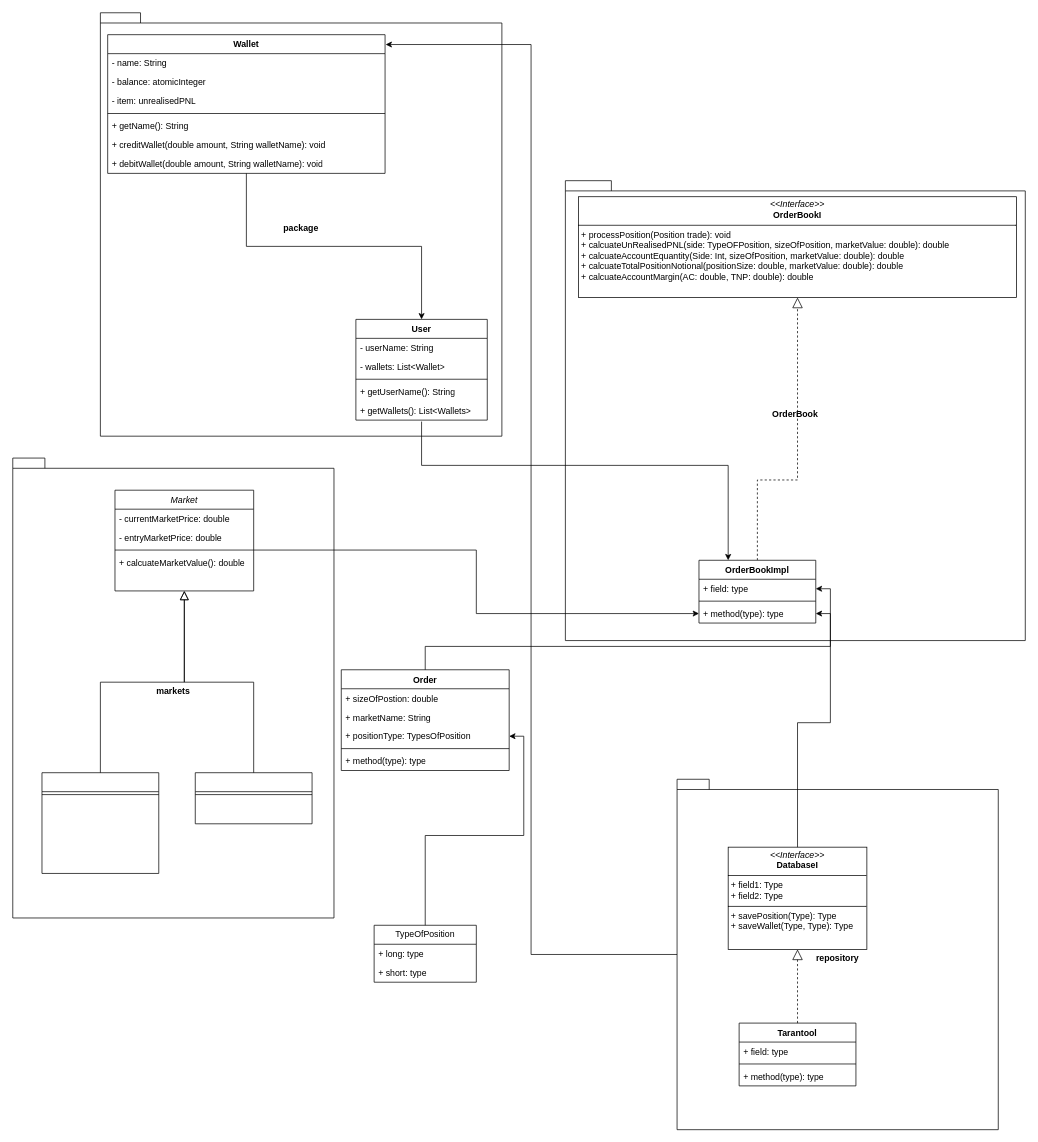
Image size: 1038x1142. Some labels were removed from this diagram. Here are the shapes that lost their labels. From the top down, the centre of each, then its label:
At [253,798]: "BTC".
At [100,822]: "ETH".
